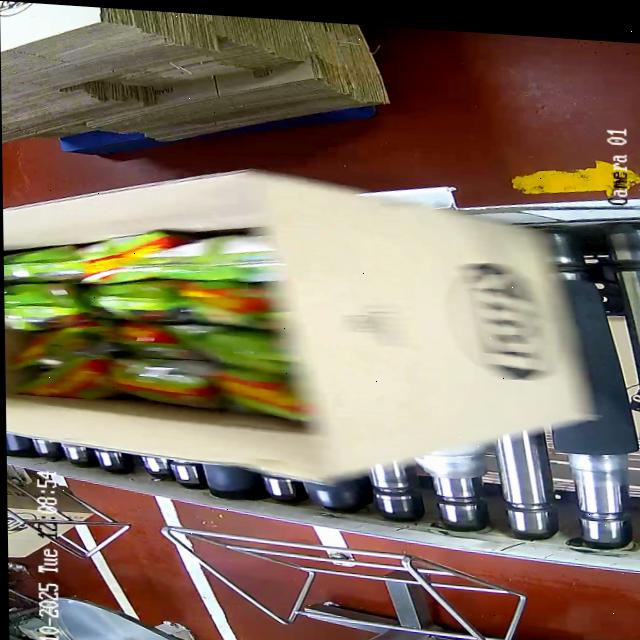YOGURT_HERB: (3, 210, 305, 423)
